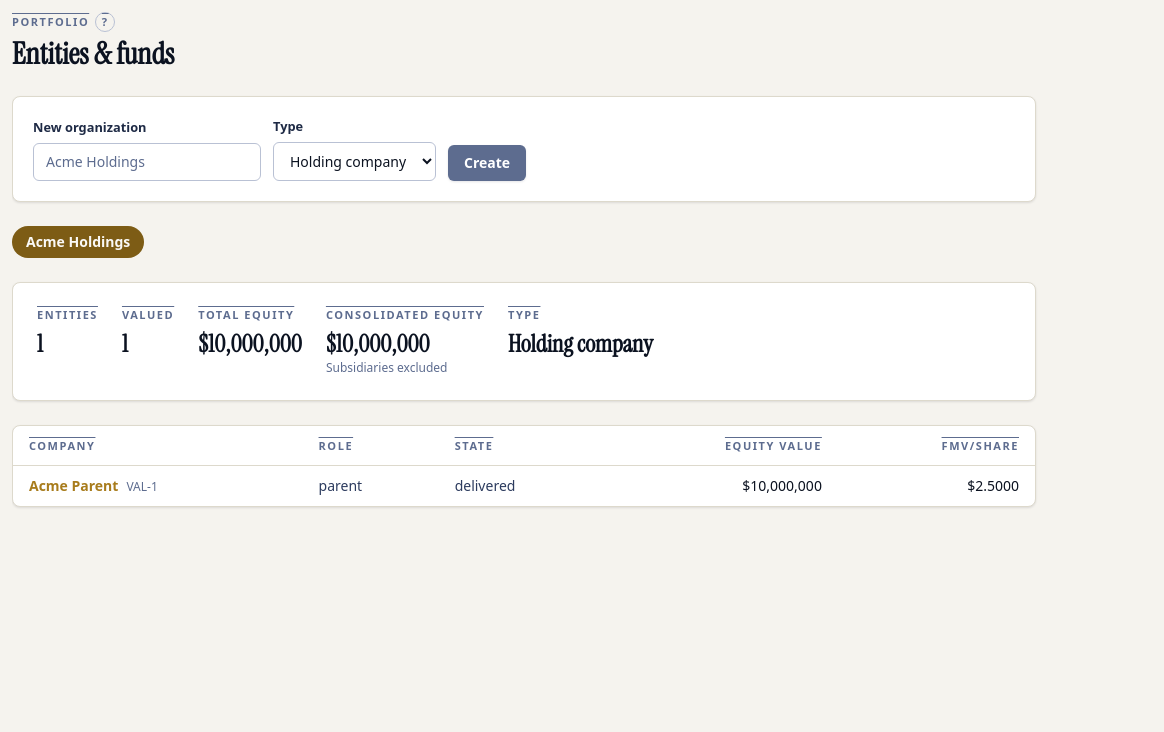
Test case: PortfolioPage — creating an organization › falls back to a plain message when the failure carries none
In the field with placeholder "Acme Holdings": point(147, 162) x1=33 y1=143 x2=261 y2=181, type "Acme"
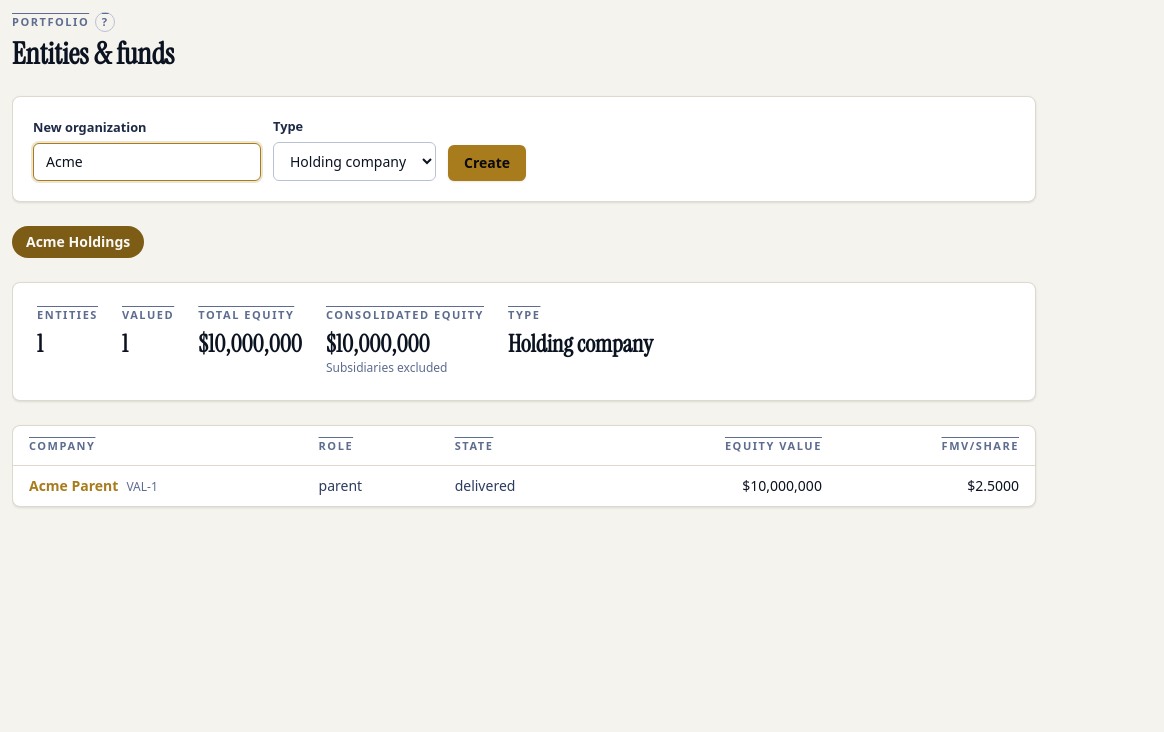
Click the button "Create": point(487, 163) x1=448 y1=145 x2=526 y2=181
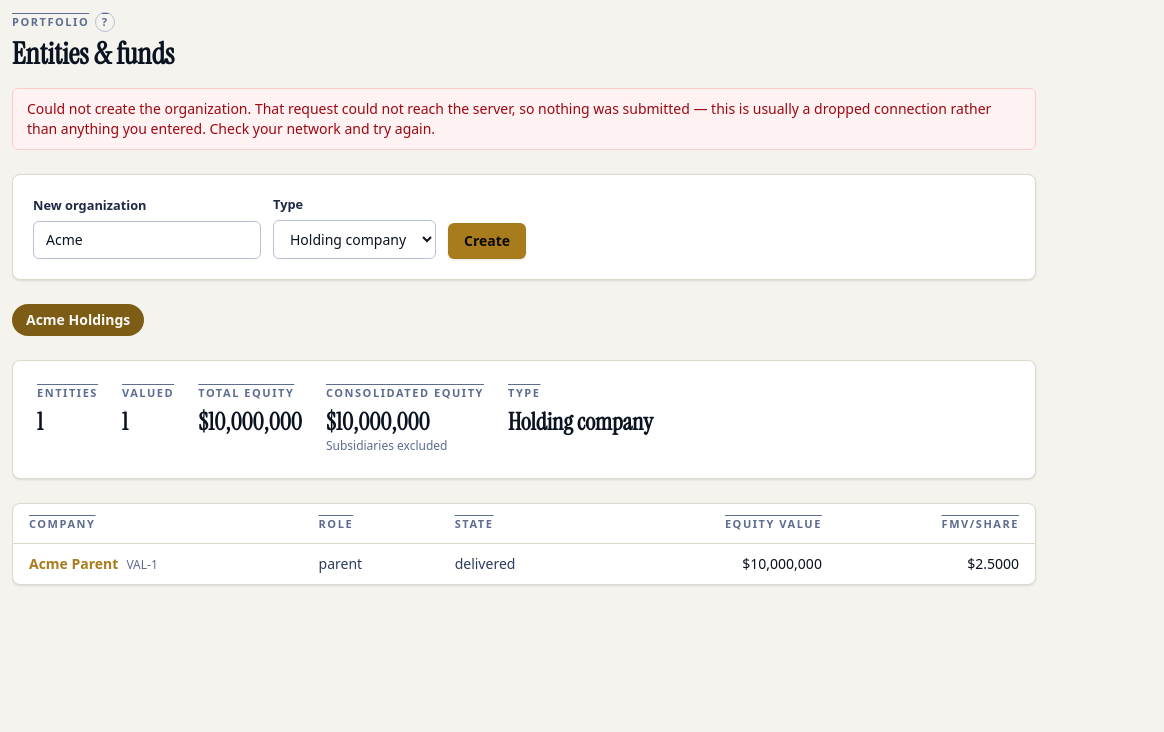
Check: the text "Could not create the organization." is shown, box x1=27 y1=99 x2=991 y2=138
